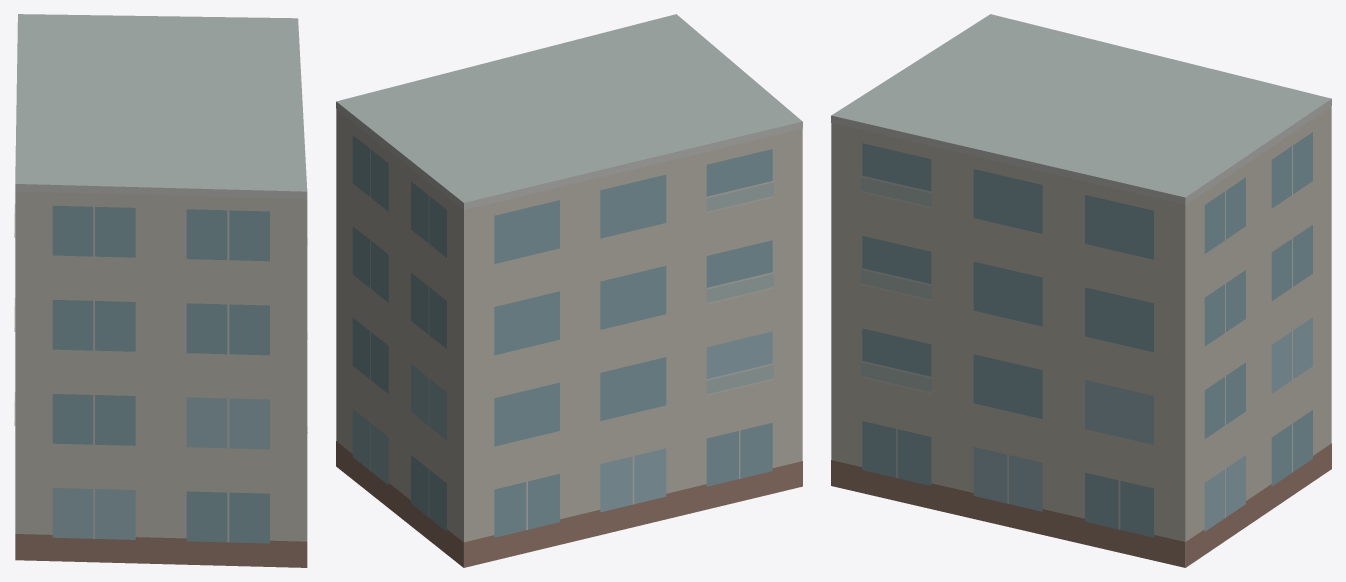
Rendered from survey-upis-32919749.glb.
The picture shows the model from 3 angles, left to right: view 1: azimuth 30°, elevation 25°; view 2: azimuth 150°, elevation 25°; view 3: azimuth 270°, elevation 25°; orthographic projection. The views are drawn at different scales.
Parts seen in each view (by area): view 1: survey-upis-32919749.tmp; view 2: survey-upis-32919749.tmp; view 3: survey-upis-32919749.tmp.
Boxes of the visible parts, bbox=[...] form: survey-upis-32919749.tmp: bbox=[14, 14, 307, 567]; survey-upis-32919749.tmp: bbox=[336, 14, 802, 567]; survey-upis-32919749.tmp: bbox=[831, 14, 1331, 567].
Bounding box in the file's own units: 12.97 × 12.2 × 14.95.
